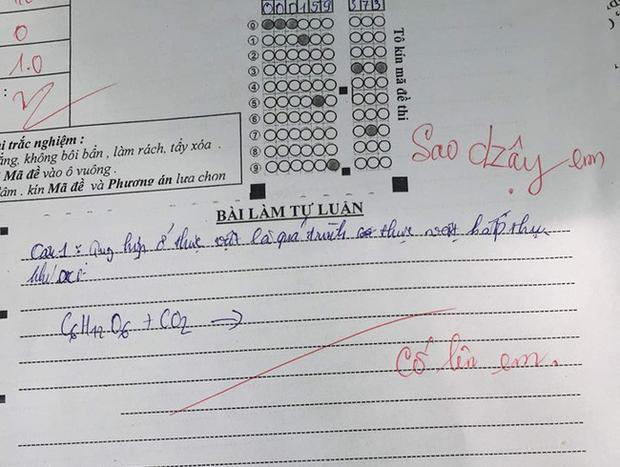text: (29, 208, 551, 264), (409, 119, 609, 199), (393, 330, 561, 379), (57, 305, 246, 346), (0, 169, 228, 201), (0, 137, 215, 169), (11, 77, 123, 131), (215, 199, 365, 225), (1, 163, 113, 184), (0, 130, 84, 155), (23, 262, 89, 288), (261, 0, 339, 16), (5, 50, 47, 79), (11, 20, 31, 43), (347, 0, 381, 12)
